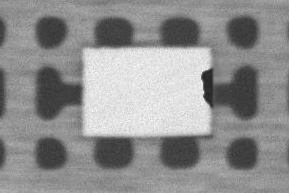DIE_BROKEN: (199, 68, 214, 109)
